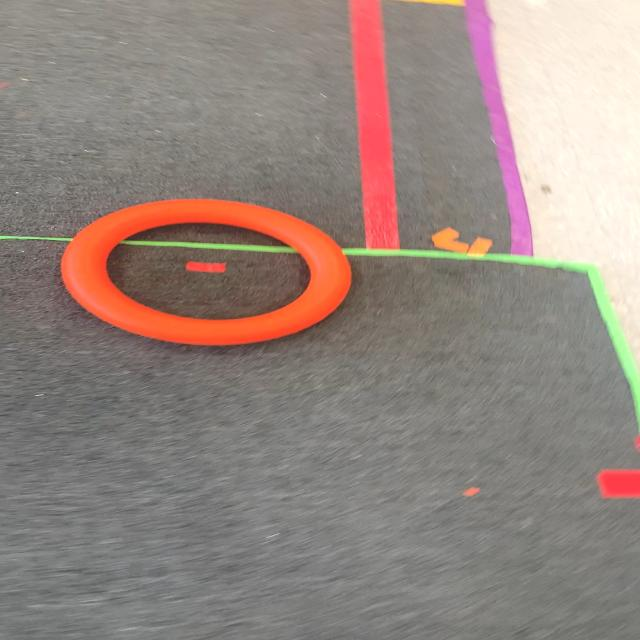notes: (67, 199, 351, 346)
